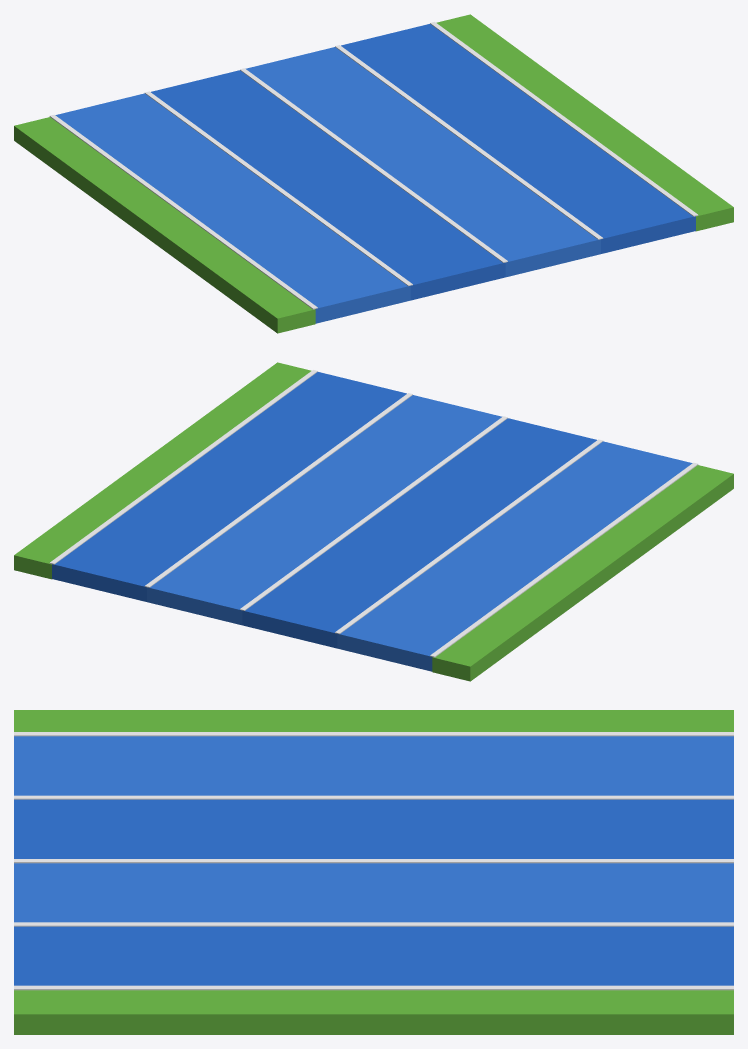
Rendered from ground.glb.
3 renders of one model, top to bottom at view 1: azimuth 30°, elevation 25°; view 2: azimuth 150°, elevation 25°; view 3: azimuth 270°, elevation 25°, orthographic. The views are drawn at different scales.
Parts seen in each view (by area): view 1: ground; view 2: ground; view 3: ground.
Part boxes in pixels (x1,y1,x2,y2): ground: (14, 14, 733, 333); ground: (14, 362, 733, 681); ground: (14, 710, 733, 1034).
Bounding box in the file's own units: 9.6 × 0.326 × 9.6.
